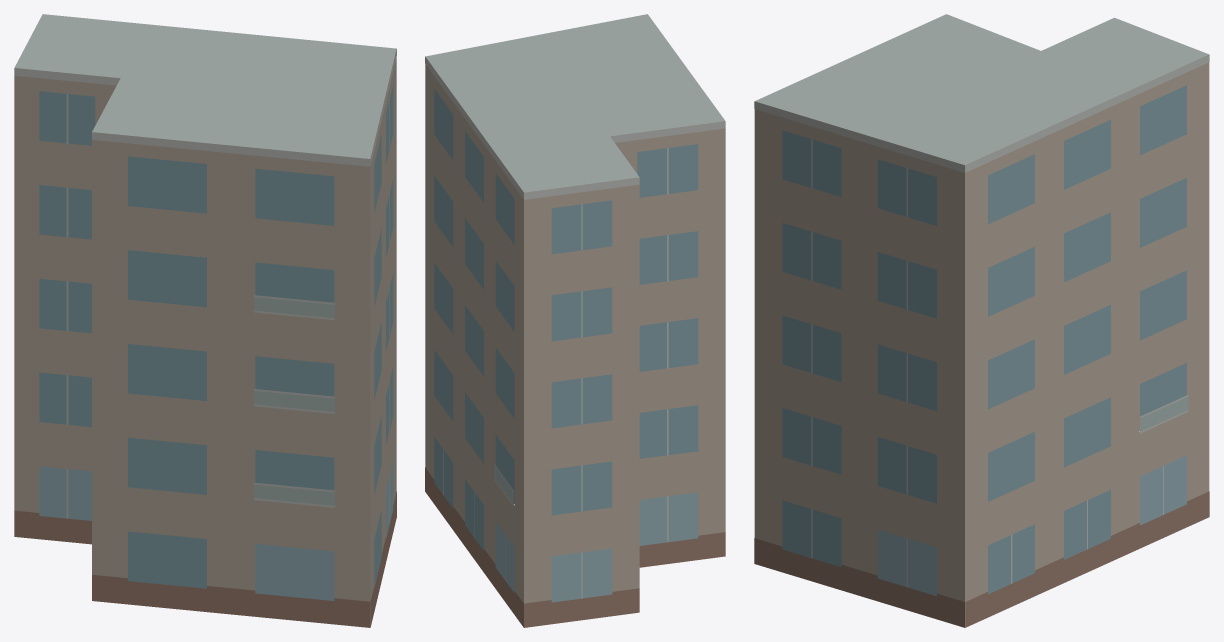
File: survey-upis-32719969.glb
The picture shows the model from 3 angles, left to right: view 1: azimuth 30°, elevation 25°; view 2: azimuth 150°, elevation 25°; view 3: azimuth 270°, elevation 25°; orthographic projection. The views are drawn at different scales.
Visible parts, largest first — view 1: survey-upis-32719969.tmp; view 2: survey-upis-32719969.tmp; view 3: survey-upis-32719969.tmp.
Part boxes in pixels (bbox=[...]): survey-upis-32719969.tmp: bbox=[14, 14, 396, 627]; survey-upis-32719969.tmp: bbox=[425, 14, 725, 627]; survey-upis-32719969.tmp: bbox=[754, 14, 1209, 627].
Size of the model in its own units: 10.32 by 14.7 by 13.11.
